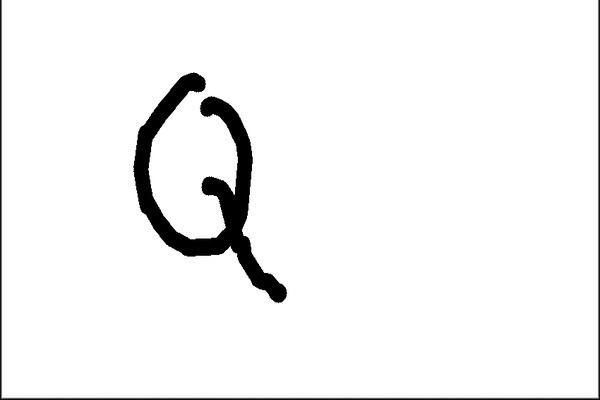Q: (122, 67, 290, 307)
